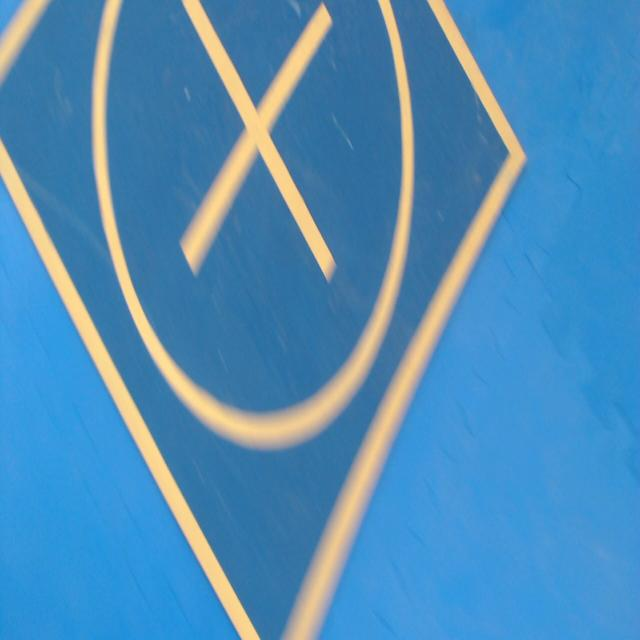base_pouso: (0, 0, 527, 639)
